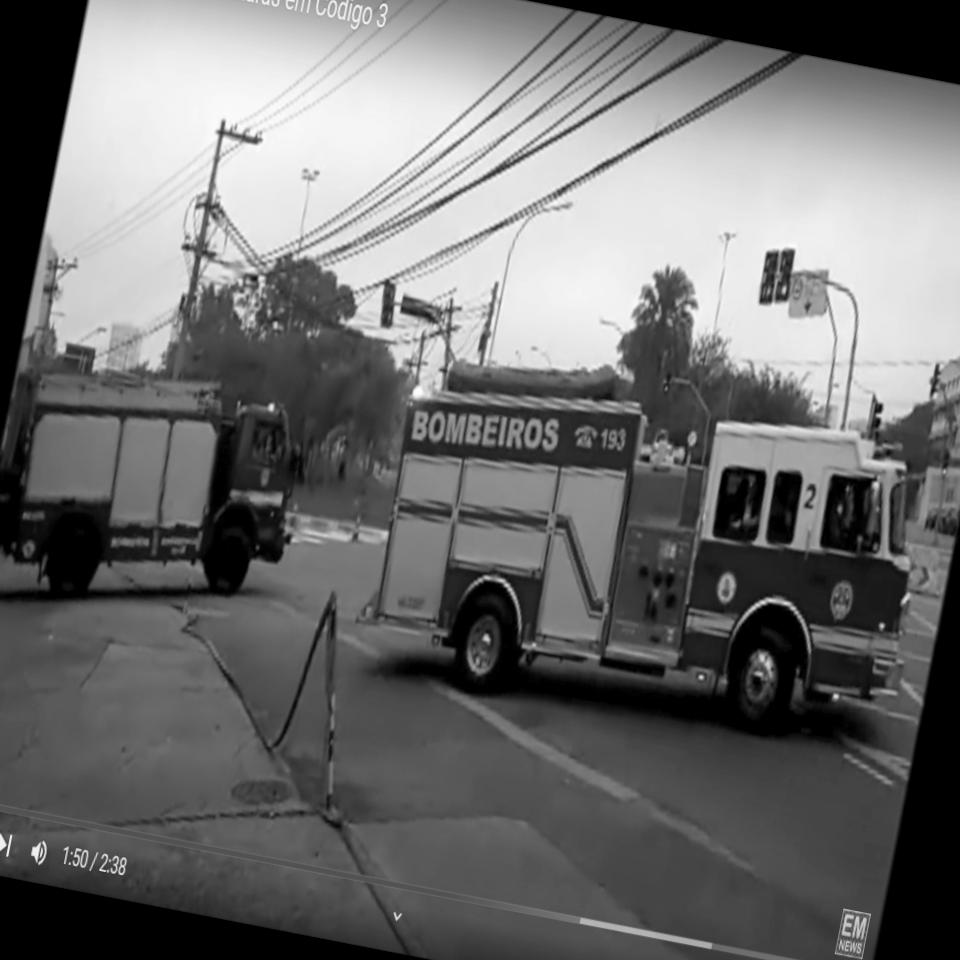viatura: (345, 321, 955, 773), (0, 331, 322, 635)
